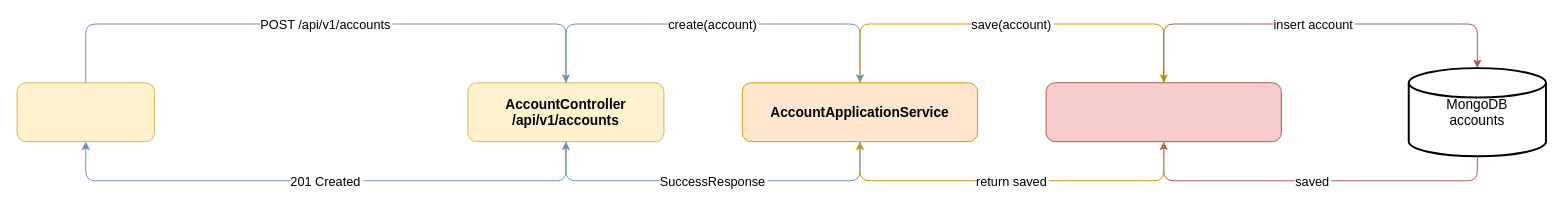
Some shapes in this 1564 by 206 pixel diagram are drawn without their labels. The centre of each missing label's shape, as x and y in pixels:
Client: the point at 85,112
MongoAccountRepository: the point at 1163,112
